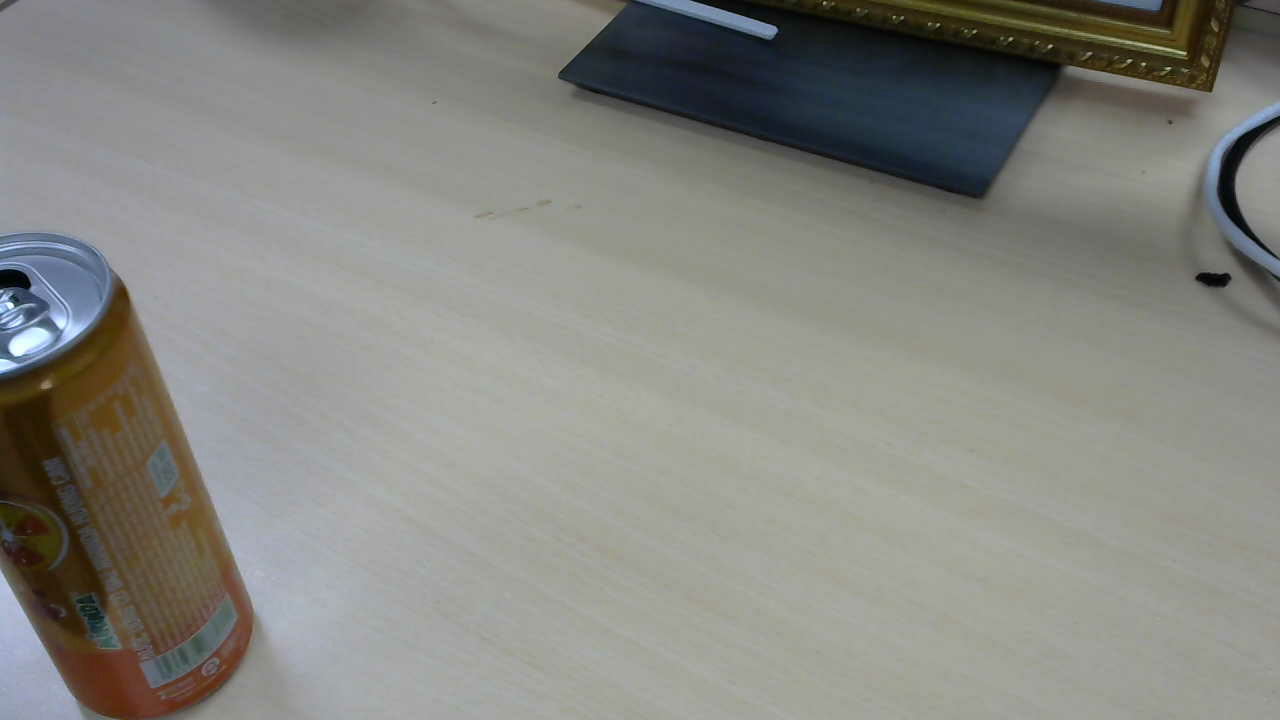Mirinda: (5, 236, 259, 698)
